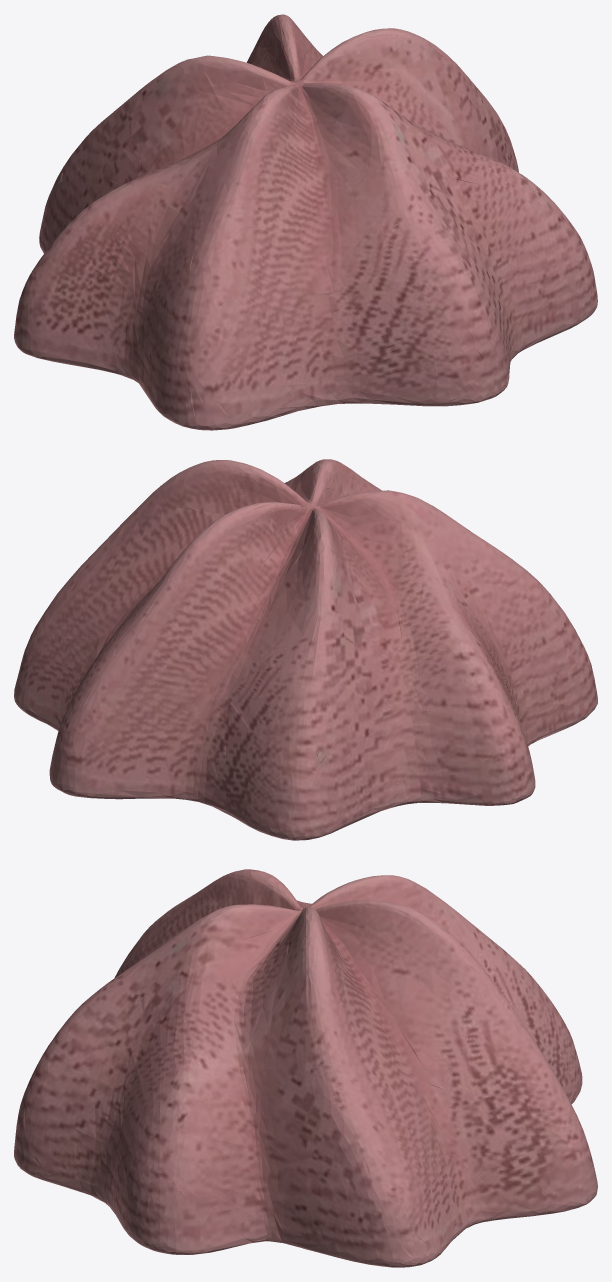
File: rosette-display.glb
3 views of the same model, one above another, from view 1: azimuth 30°, elevation 25°; view 2: azimuth 150°, elevation 25°; view 3: azimuth 270°, elevation 25° (orthographic). The views are drawn at different scales.
Bounding box in the file's own units: 0.9999 × 0.4825 × 0.9657.
1 material, 1 textured.
